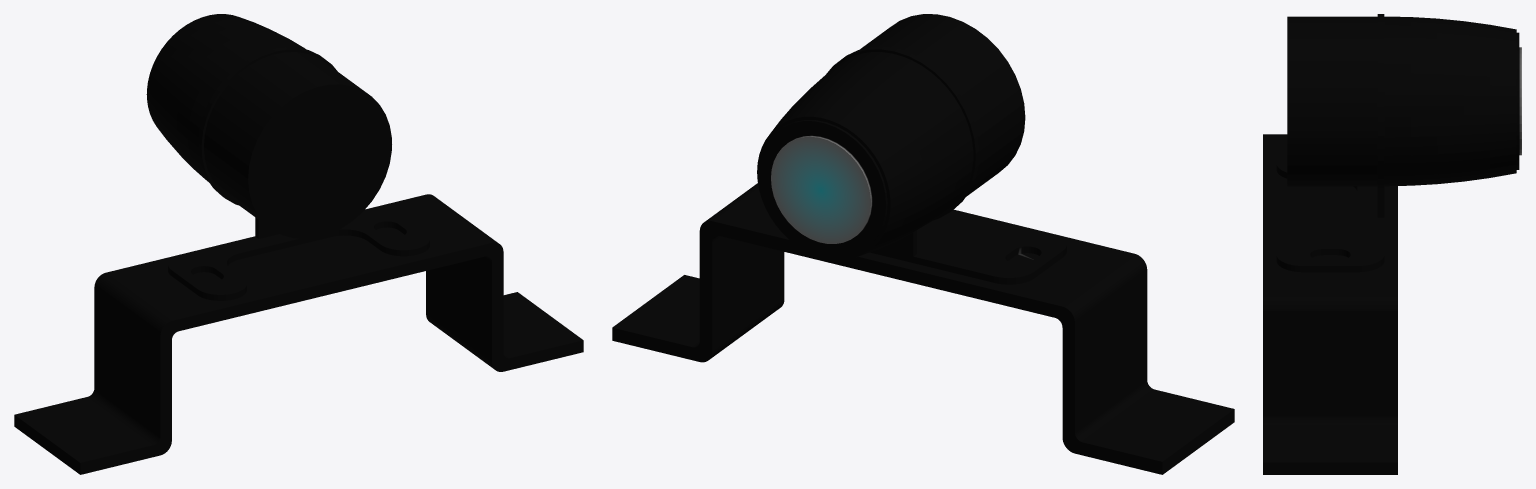
File: camera.dae
The picture shows the model from 3 angles, left to right: view 1: azimuth 30°, elevation 25°; view 2: azimuth 150°, elevation 25°; view 3: azimuth 270°, elevation 25°; orthographic projection. The views are drawn at different scales.
Parts seen in each view (by area): view 1: node; view 2: node; view 3: node.
Part boxes in pixels (<box>): node: <box>14,14,583,474</box>; node: <box>612,14,1234,474</box>; node: <box>1263,14,1521,474</box>.
Size of the model in its own units: 0.0559 by 0.0244 by 0.0341.
